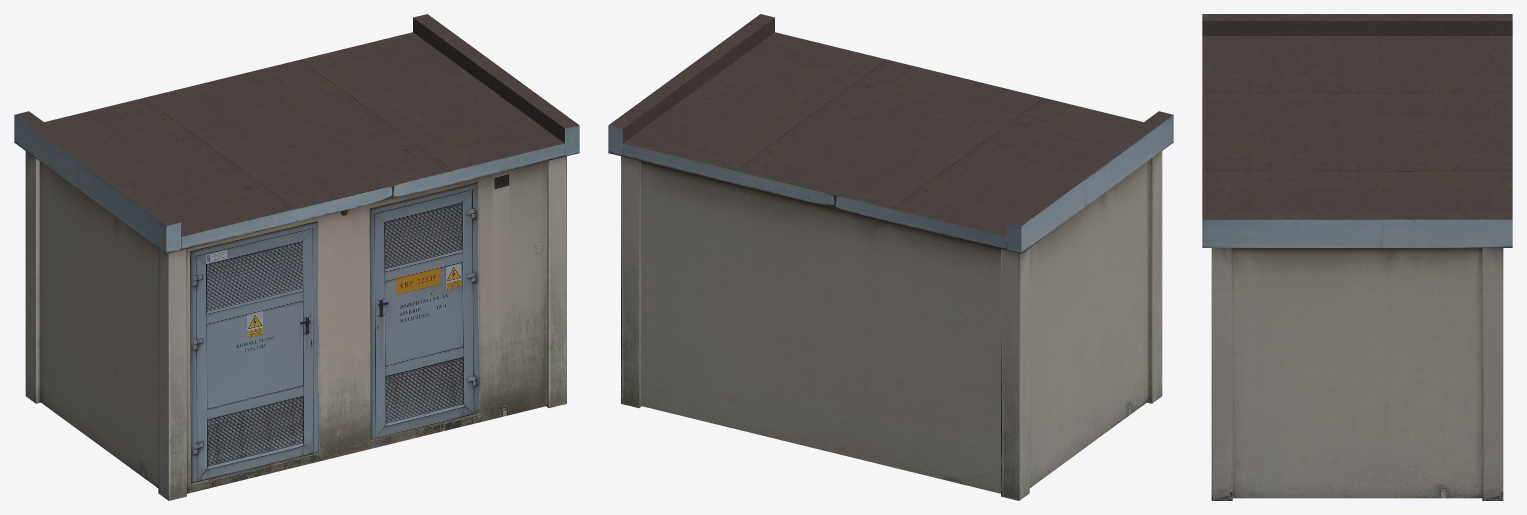
Rendered from substation.glb.
3 views of the same model, side by side, from view 1: azimuth 30°, elevation 25°; view 2: azimuth 150°, elevation 25°; view 3: azimuth 270°, elevation 25° (orthographic). The views are drawn at different scales.
Visible parts, largest first — view 1: Cube; view 2: Cube; view 3: Cube.
Boxes of the visible parts, box(x1,y1,x2,y2) form: Cube: box(14, 14, 579, 500); Cube: box(608, 14, 1173, 500); Cube: box(1202, 14, 1512, 500).
Size of the model in its own units: 3.63 by 2.35 by 2.32.
1 material, 1 textured.
